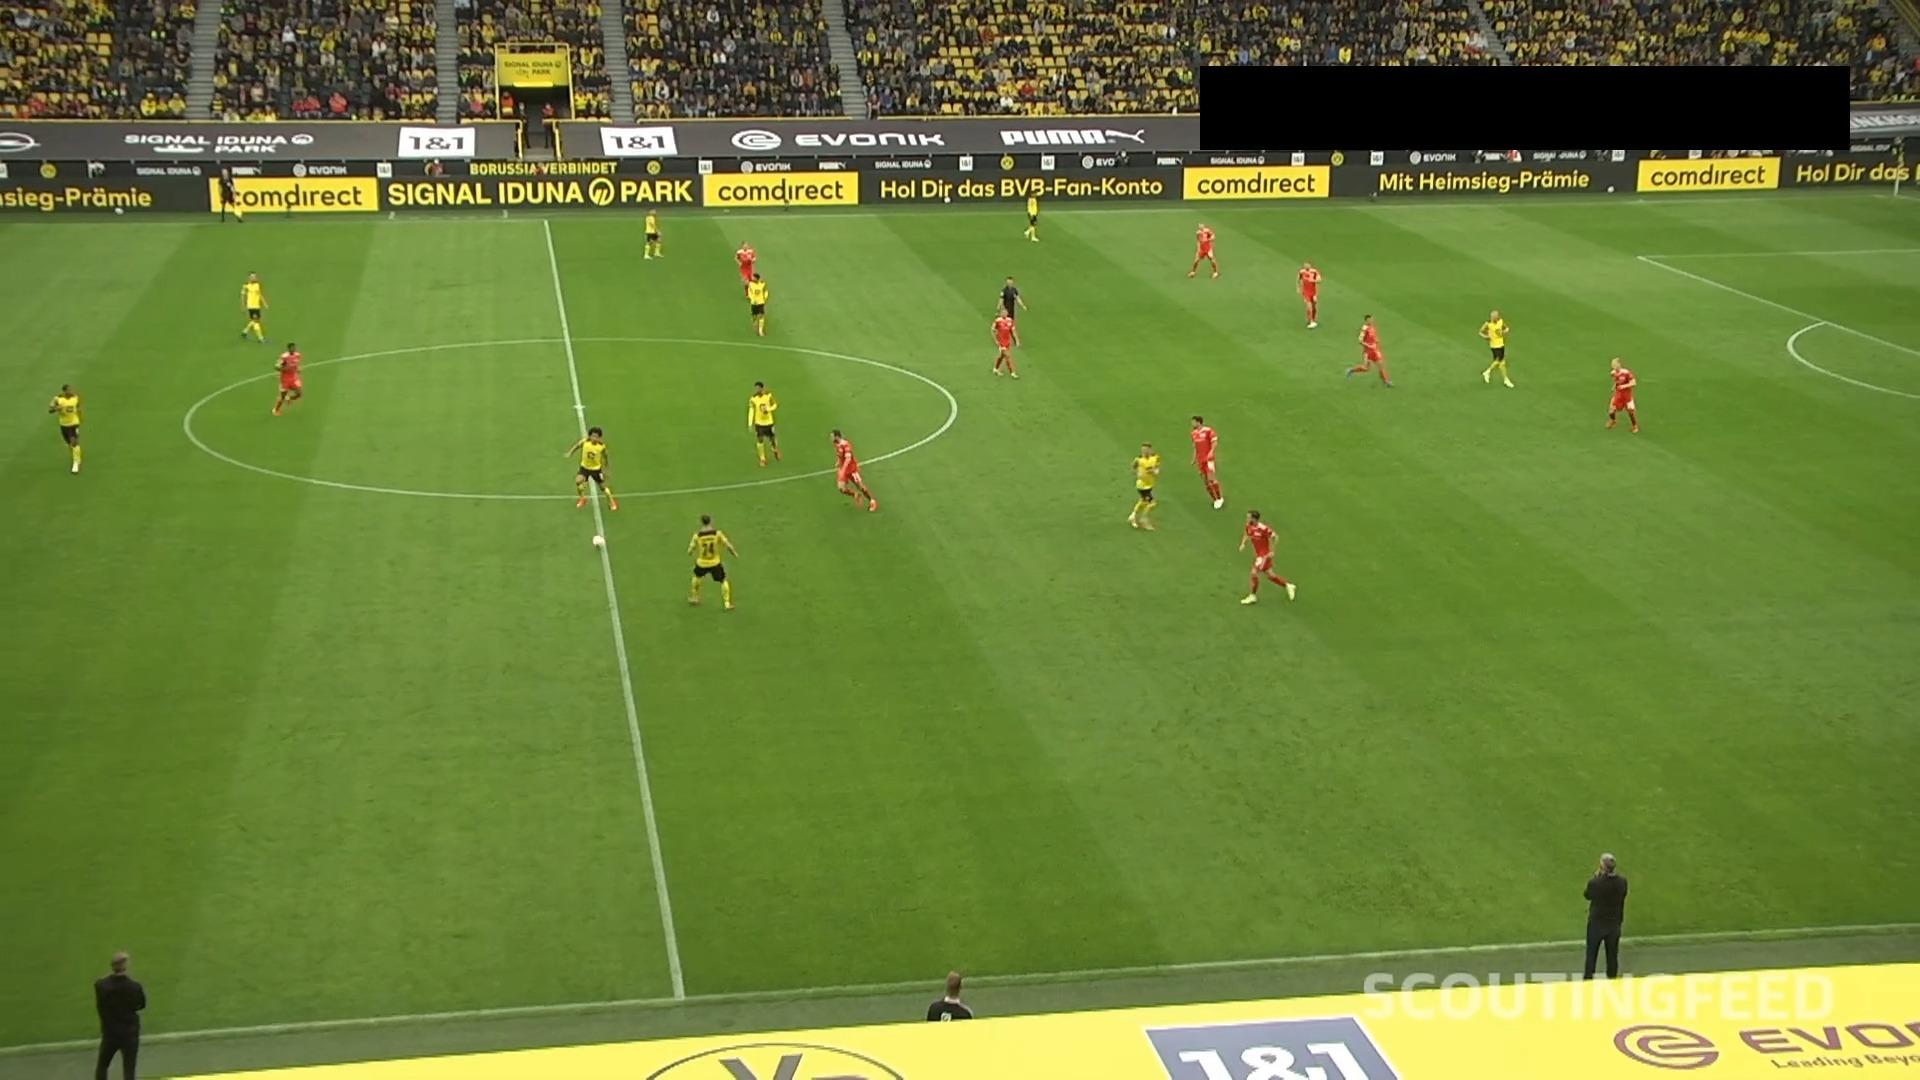ball: (591, 534, 605, 550)
